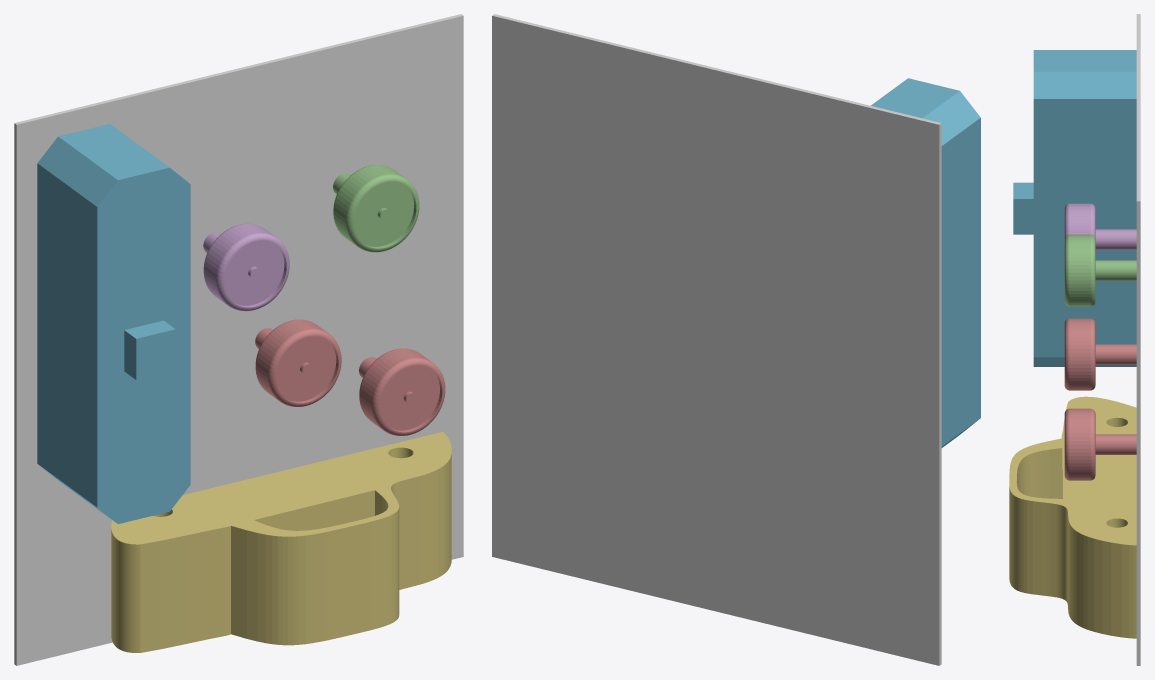
File: pickup_layout.glb
The picture shows the model from 3 angles, left to right: view 1: azimuth 30°, elevation 25°; view 2: azimuth 150°, elevation 25°; view 3: azimuth 270°, elevation 25°; orthographic projection. The views are drawn at different scales.
Visible parts, largest first — view 1: world, 2.obj, 1.obj, 3.obj, 4.obj, 0.obj, 5.obj; view 2: world, 2.obj; view 3: 2.obj, 1.obj, world, 0.obj, 4.obj, 5.obj, 3.obj.
Part boxes in pixels (x1,y1,x2,y2): world: (14, 14, 463, 665); 2.obj: (37, 124, 190, 523); 1.obj: (111, 431, 451, 652); 3.obj: (203, 223, 289, 311); 4.obj: (333, 165, 419, 252); 0.obj: (255, 319, 341, 406); 5.obj: (359, 348, 445, 435); world: (492, 14, 941, 665); 2.obj: (871, 78, 980, 447); 2.obj: (1013, 50, 1136, 366); 1.obj: (1009, 396, 1136, 638); world: (1136, 14, 1140, 665); 0.obj: (1064, 318, 1136, 390); 4.obj: (1064, 234, 1136, 306); 5.obj: (1064, 408, 1136, 480); 3.obj: (1064, 203, 1136, 249).
Size of the model in its own units: 21.55 by 24.92 by 6.39.
